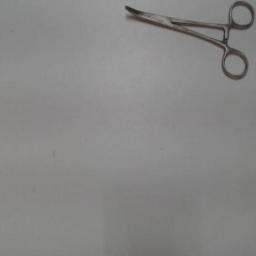Crile Artery Forceps: (121, 1, 255, 81)
